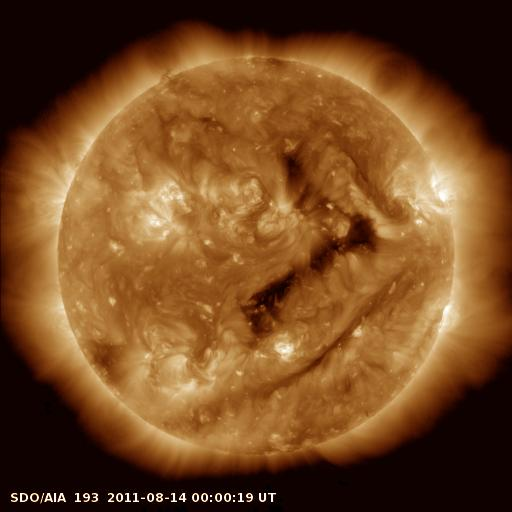coronal_hole: (246, 213, 380, 340), (273, 148, 316, 187)
